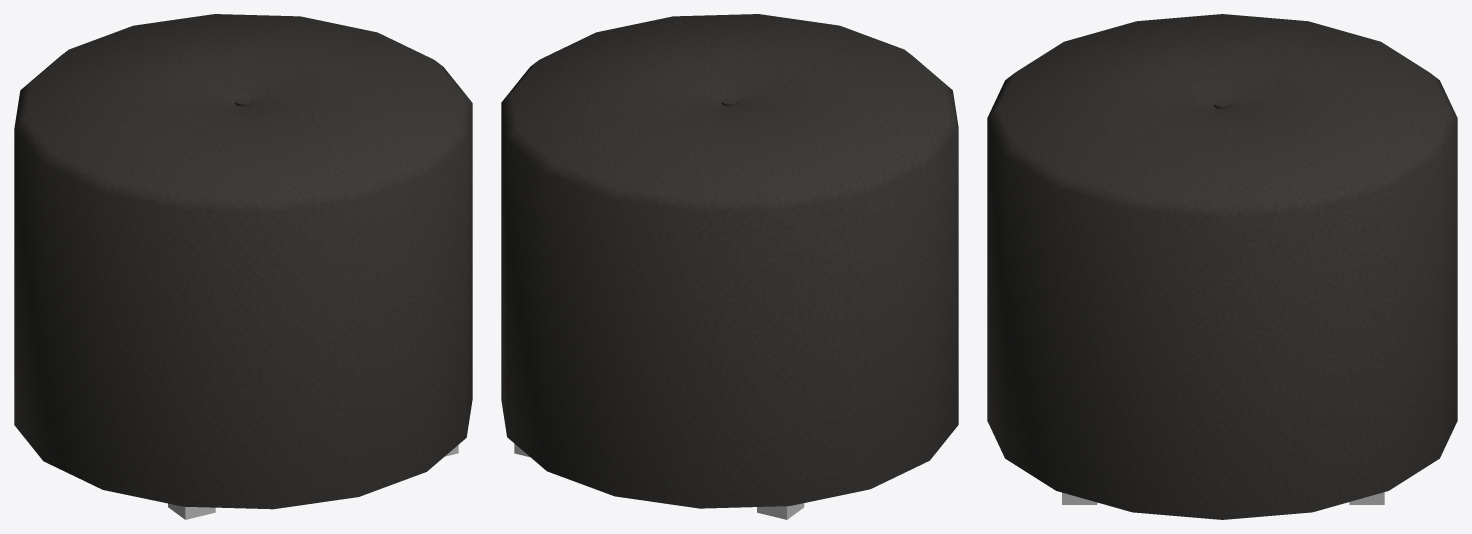
The model's file is Hassock.fbx.
3 renders of one model, left to right at view 1: azimuth 30°, elevation 25°; view 2: azimuth 150°, elevation 25°; view 3: azimuth 270°, elevation 25°, orthographic.
Visible parts, largest first — view 1: Hassock; view 2: Hassock; view 3: Hassock.
Part boxes in pixels (box(x1,y1,x2,y2)): Hassock: box(14, 14, 472, 519); Hassock: box(501, 14, 958, 519); Hassock: box(987, 14, 1457, 519).
Size of the model in its own units: 57.49 by 46.26 by 57.49.
